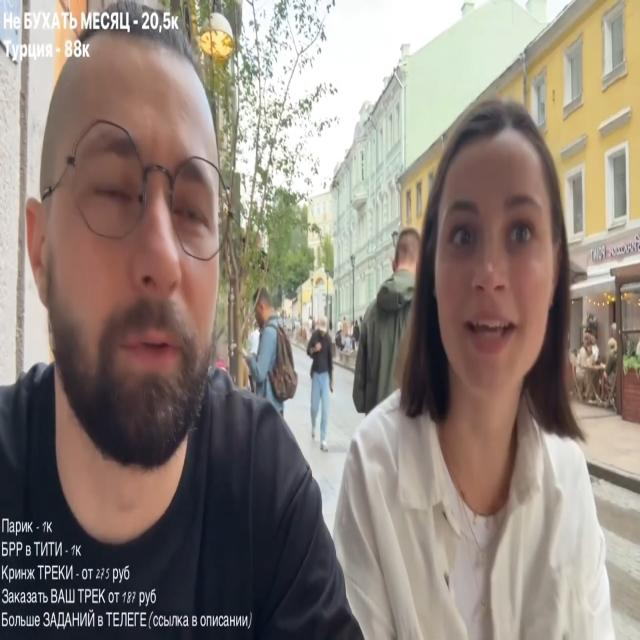Person: (0, 22, 361, 640), (323, 92, 631, 640), (354, 229, 422, 416), (247, 292, 300, 410), (305, 316, 336, 451), (572, 332, 602, 404)
